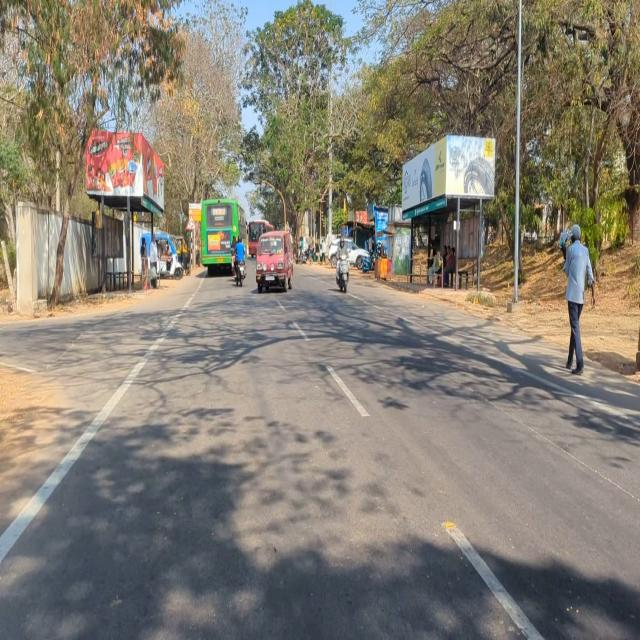bien_cam: (185, 214, 197, 230)
